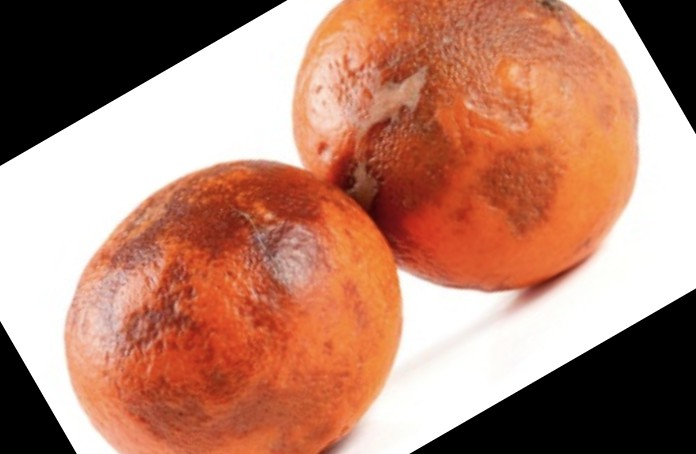rotten_orange: (294, 1, 637, 293), (64, 161, 404, 454)
